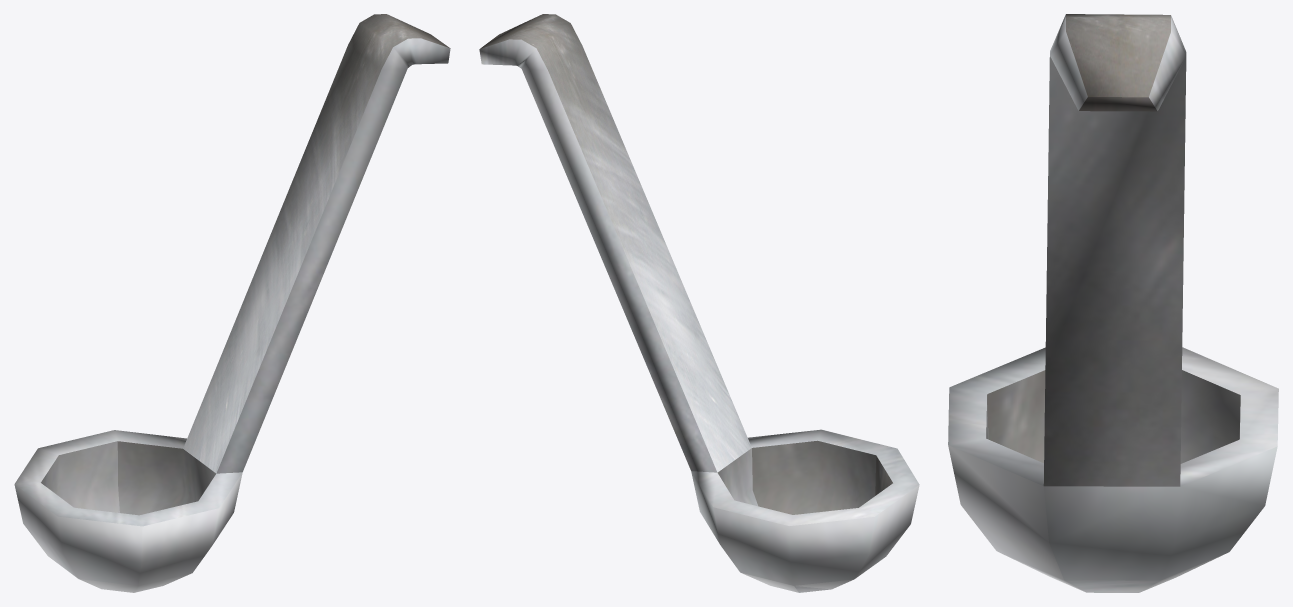
File: Ladel.obj
3 renders of one model, left to right at view 1: azimuth 30°, elevation 25°; view 2: azimuth 150°, elevation 25°; view 3: azimuth 270°, elevation 25°, orthographic. The views are drawn at different scales.
Visible parts, largest first — view 1: Ladel.obj; view 2: Ladel.obj; view 3: Ladel.obj.
Part boxes in pixels (x1,y1,x2,y2): Ladel.obj: (14, 14, 450, 592); Ladel.obj: (479, 14, 919, 592); Ladel.obj: (948, 14, 1278, 592).
Bounding box in the file's own units: 5.37 × 6.2 × 2.44.
